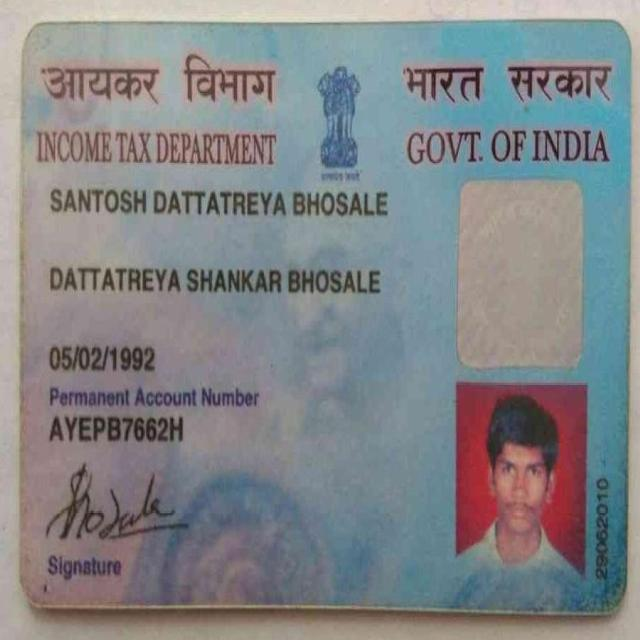pan_card: (25, 28, 629, 602)
